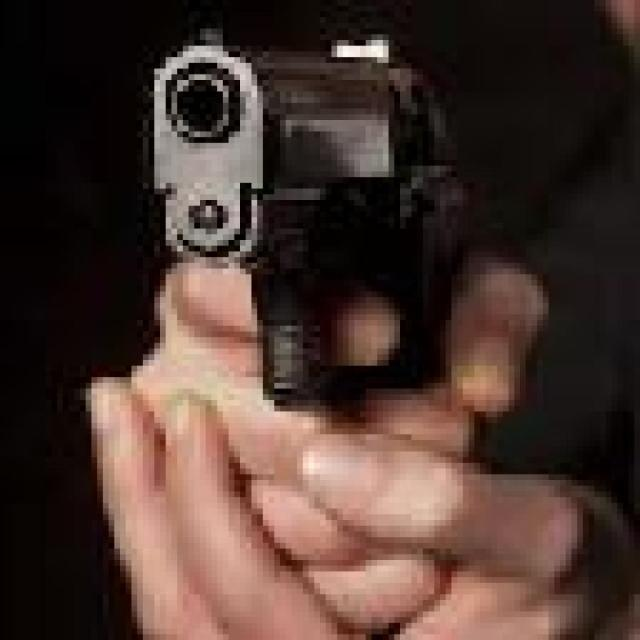pistol: (97, 24, 551, 439)
